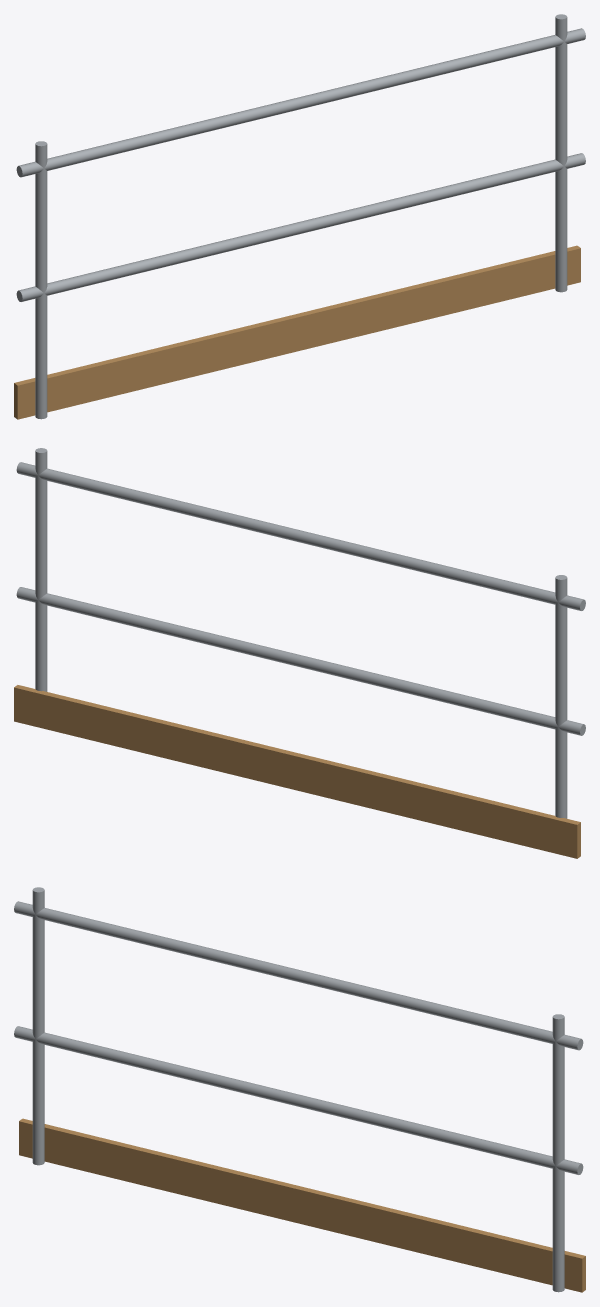
Rendered from plant.fence.edge_protection.glb.
3 renders of one model, top to bottom at view 1: azimuth 30°, elevation 25°; view 2: azimuth 150°, elevation 25°; view 3: azimuth 330°, elevation 25°, orthographic.
Visible parts, largest first — view 1: main__steel_galvanised, main__softwood; view 2: main__softwood, main__steel_galvanised; view 3: main__steel_galvanised, main__softwood.
Boxes of the visible parts, x1=… form: main__steel_galvanised: x1=16, y1=14, x2=585, y2=419; main__softwood: x1=14, y1=245, x2=580, y2=419; main__softwood: x1=14, y1=685, x2=580, y2=858; main__steel_galvanised: x1=16, y1=448, x2=585, y2=818; main__steel_galvanised: x1=14, y1=887, x2=583, y2=1292; main__softwood: x1=19, y1=1118, x2=585, y2=1292.
Size of the model in its own units: 2.6 by 1.2 by 0.069.
